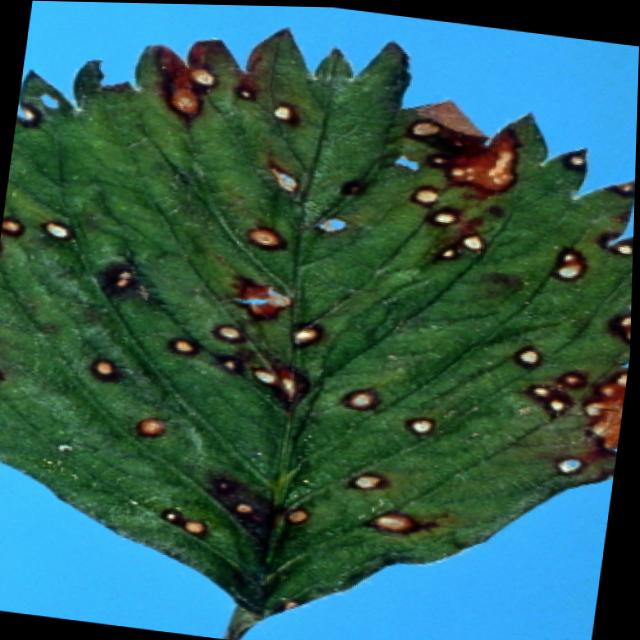Leaf Spot: (0, 21, 636, 621)
